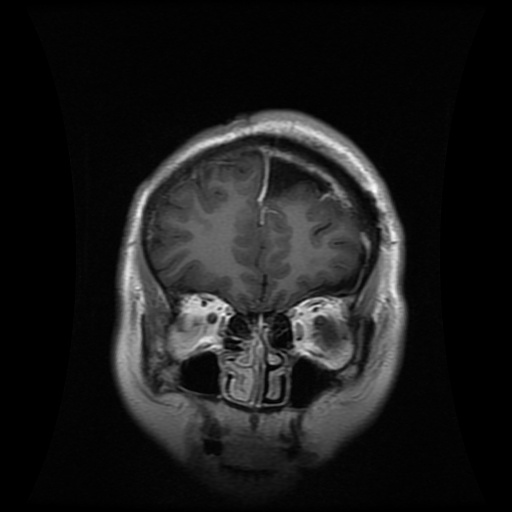glioma: (263, 154, 333, 199)
